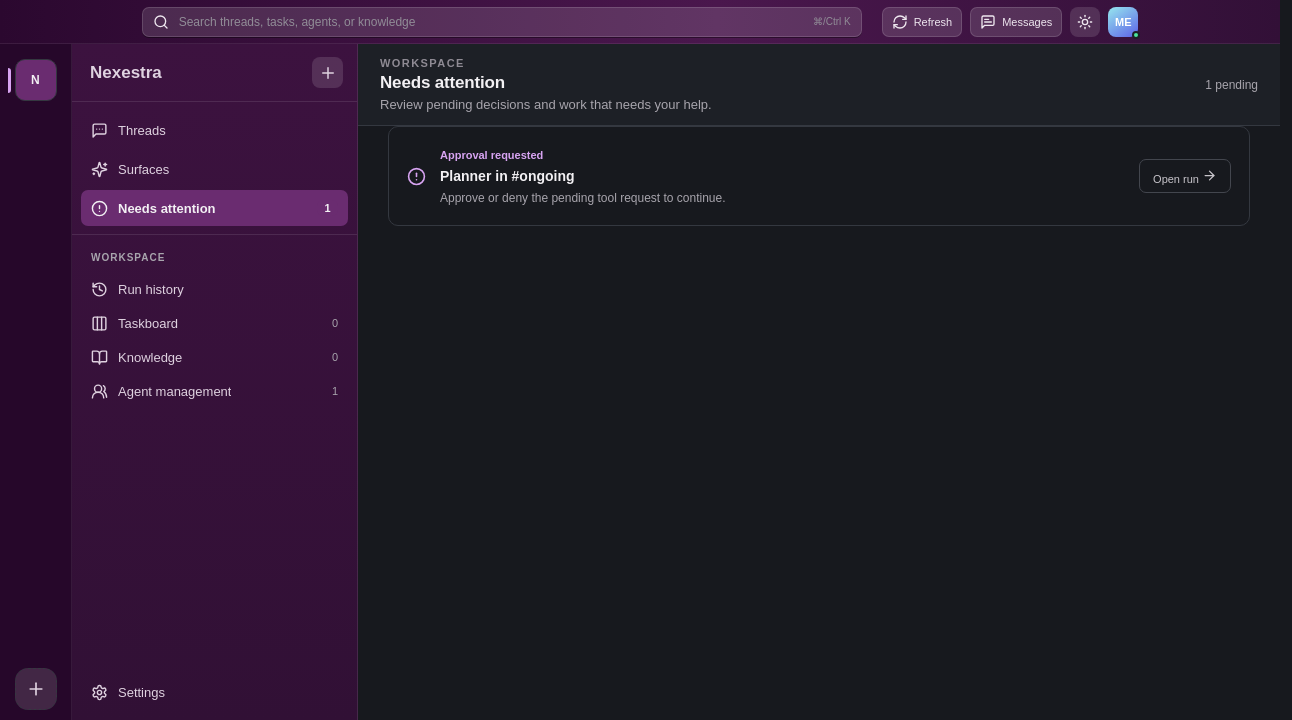
Scenario: Workspace attention supervision › refreshes completed work once while another background run remains and retains newer activity
Check: the heading "Needs attention" is shown, box [380, 73, 505, 92]
Check: the text "Approval requested" is shown, box [440, 149, 543, 161]
Click the button "Surfaces" at (144, 169), box [81, 151, 348, 187]
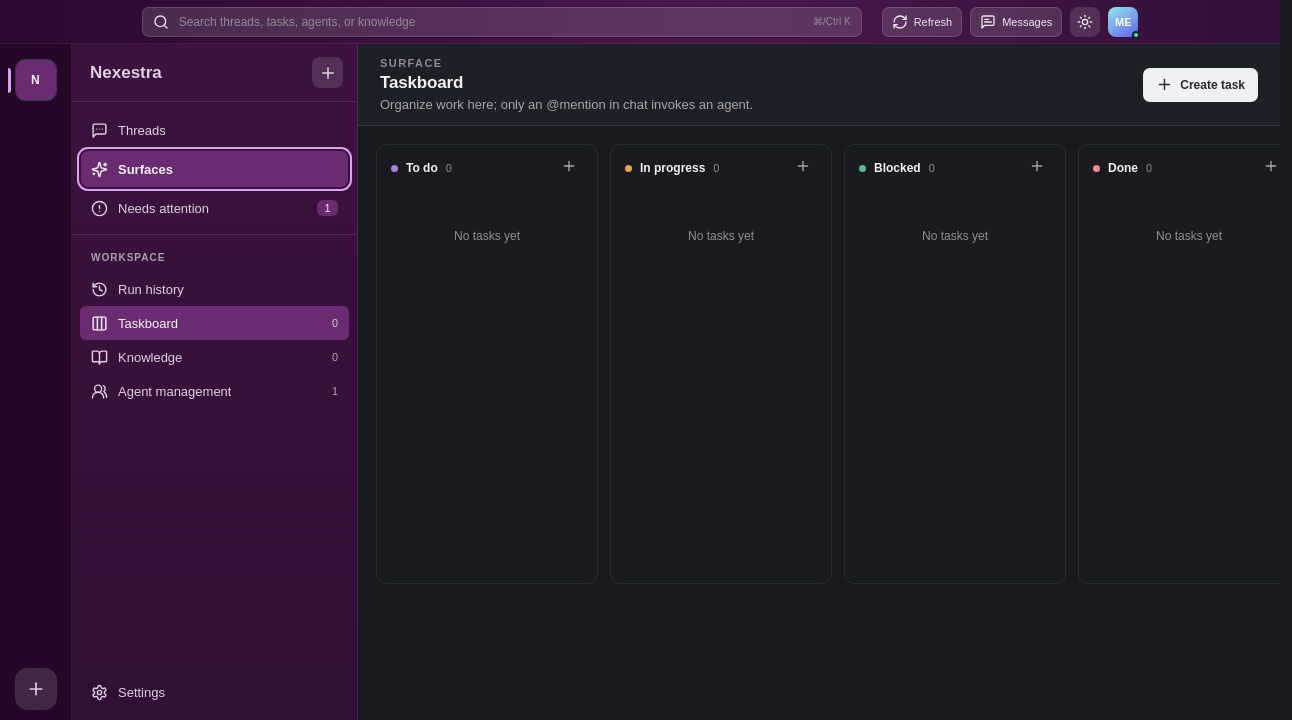
Click the button "Agent management 1" at (214, 391), box [80, 374, 349, 408]
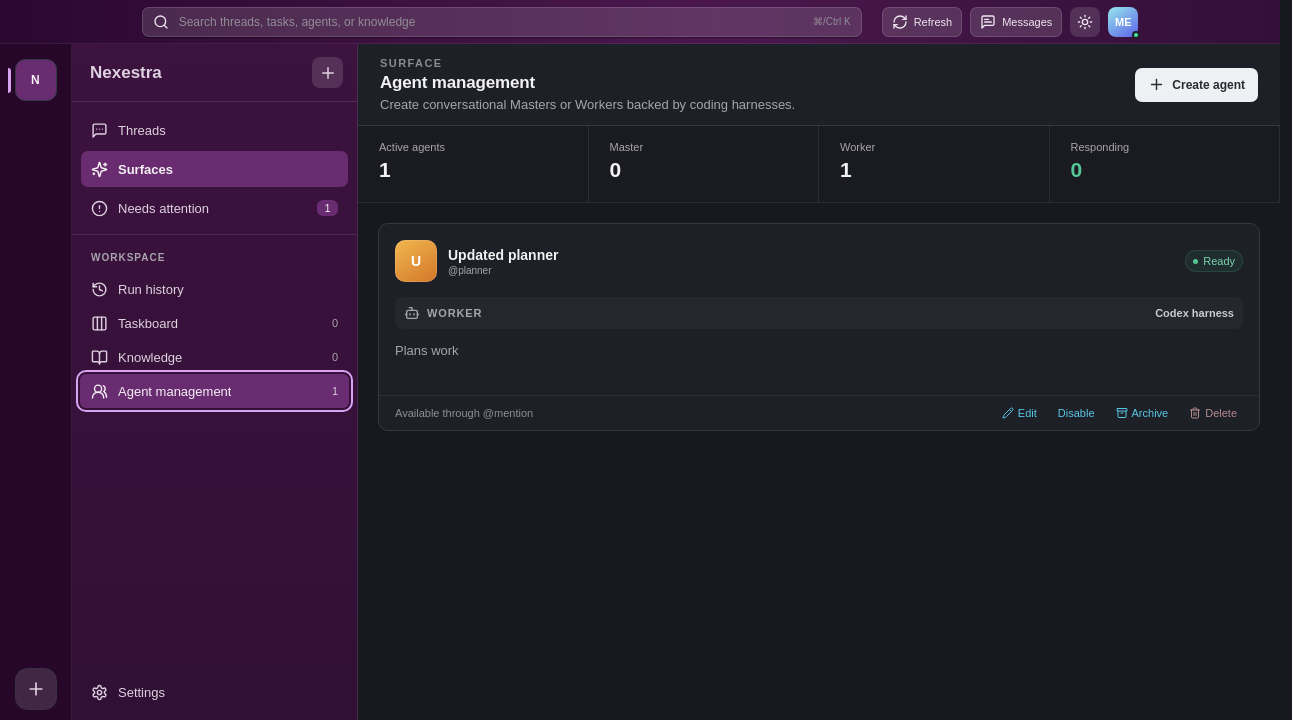
Check: the heading "Updated planner" is shown, box [448, 246, 558, 262]
